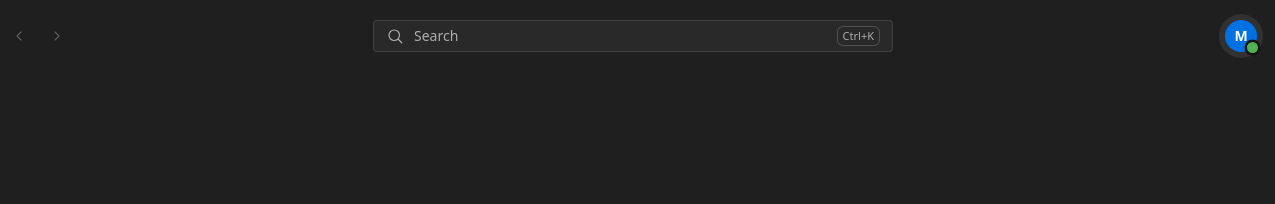
Test case: hides recent entries for people who blocked the viewer
The image size is (1275, 204).
Focus the field labelled "Search" at [620, 36], box [414,26,827,46]
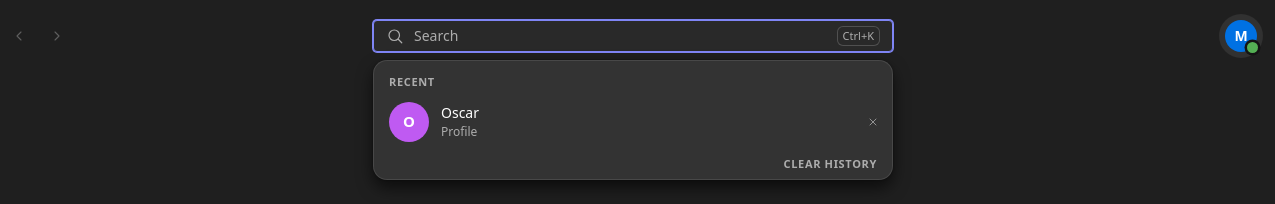
Expected: the text "Oscar" is shown, [441,103,479,123]
